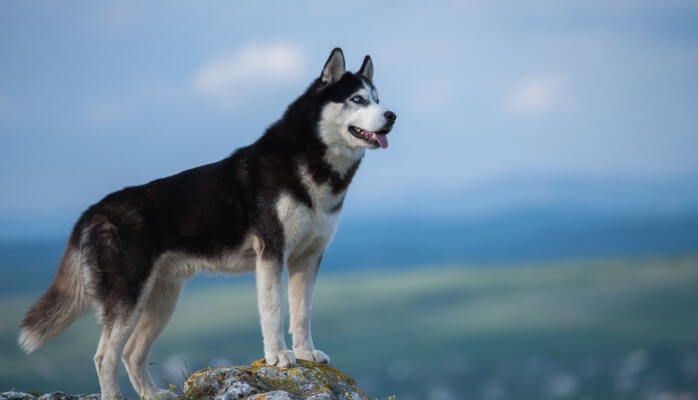husky: (64, 37, 403, 367)
